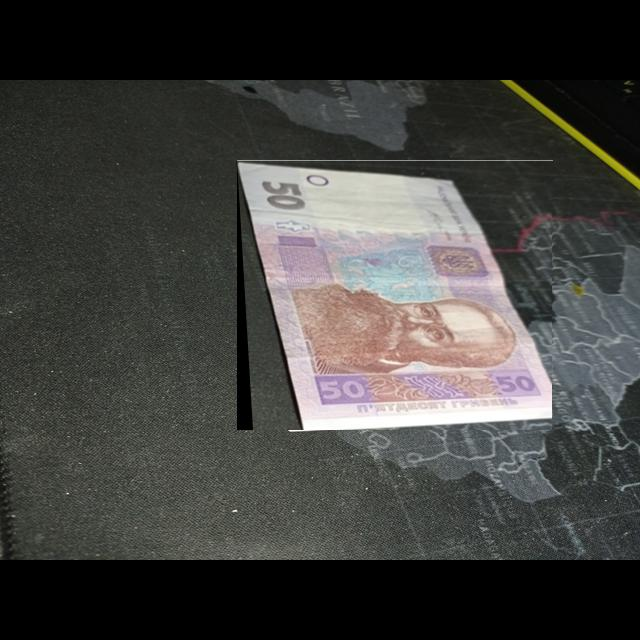50uah: (237, 160, 553, 431)
